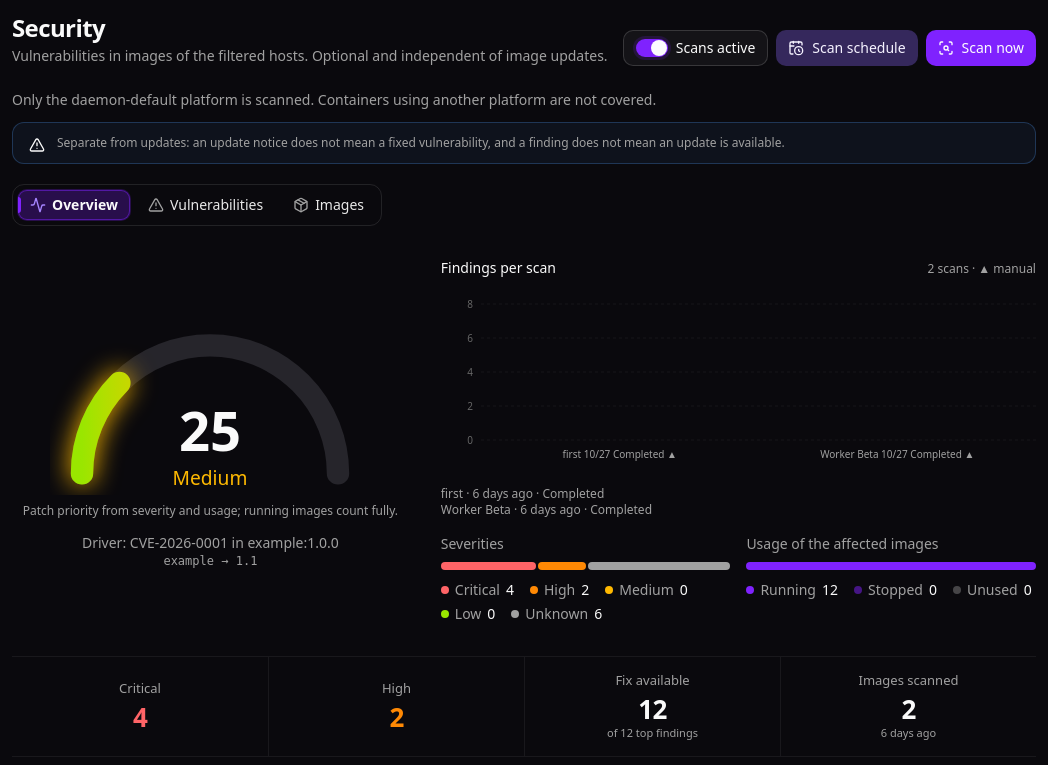
keeps real proxy agent.unavailable refusals informational for a known pending host
What coordinates should you click on to do the following:
click the button "Scan now"
I would click on:
 (981, 48)
Its box is [926, 30, 1036, 66].
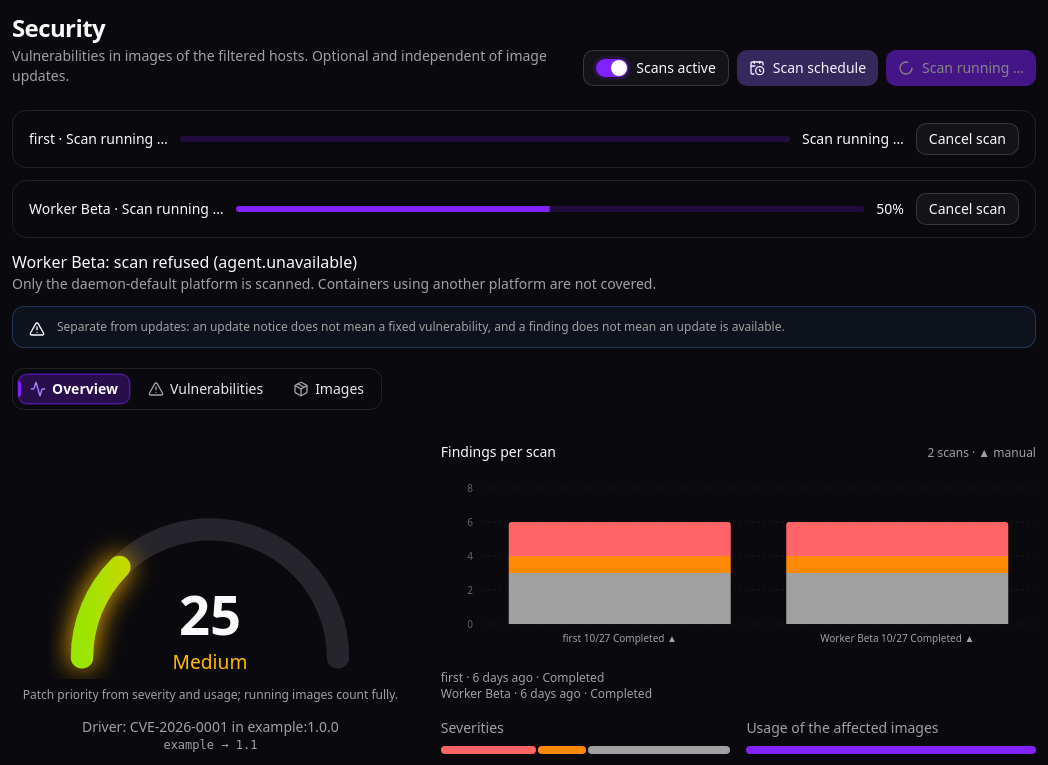
Result: the text "Worker Beta: scan refused (agent.unavailable)" is shown at [12, 251, 357, 273]
